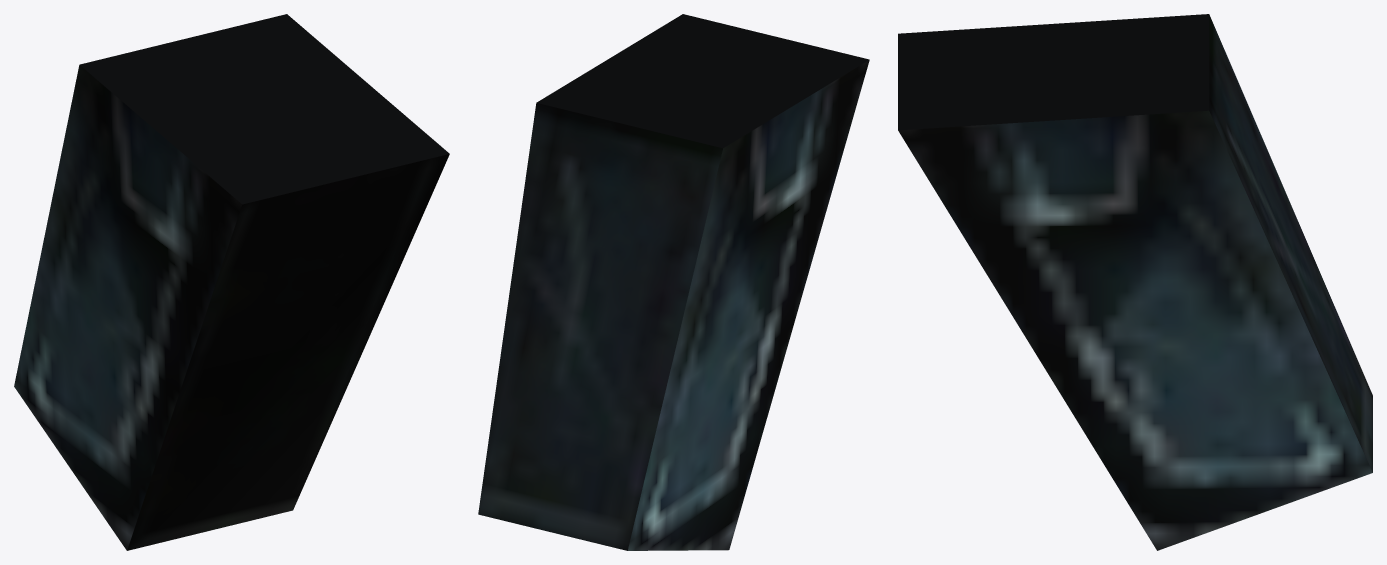
Rendered from gun03_reload.obj.
3 views of the same model, side by side, from view 1: azimuth 30°, elevation 25°; view 2: azimuth 150°, elevation 25°; view 3: azimuth 270°, elevation 25° (orthographic). The views are drawn at different scales.
Parts seen in each view (by area): view 1: gun03_reload; view 2: gun03_reload; view 3: gun03_reload.
Boxes of the visible parts, left/top/right/bottom form: gun03_reload: left=14, top=14, right=449, bottom=550; gun03_reload: left=478, top=14, right=869, bottom=550; gun03_reload: left=898, top=14, right=1372, bottom=550.
Size of the model in its own units: 0.0804 by 0.1744 by 0.1668.
Materials: 1 (1 with a texture image).
